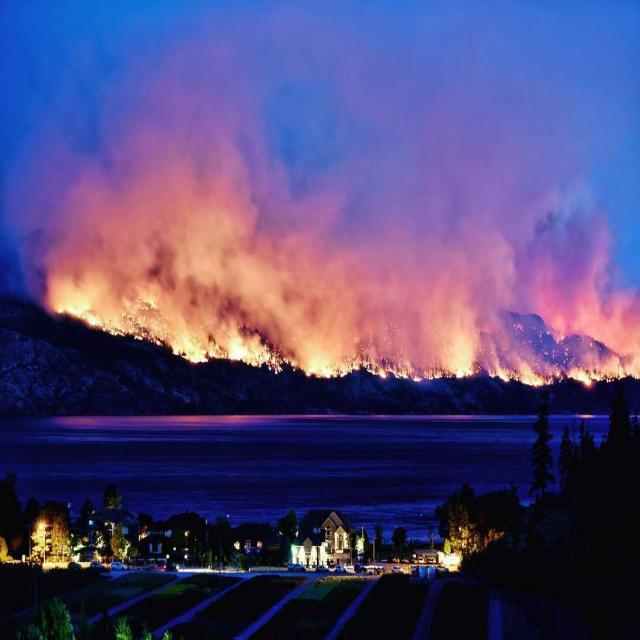Fire: (109, 291, 164, 346), (221, 324, 275, 372), (490, 359, 550, 393), (300, 349, 358, 382), (570, 363, 640, 389), (59, 294, 105, 332), (173, 328, 210, 366), (366, 359, 423, 378), (450, 358, 477, 385)
Smoke: (48, 59, 640, 377)
